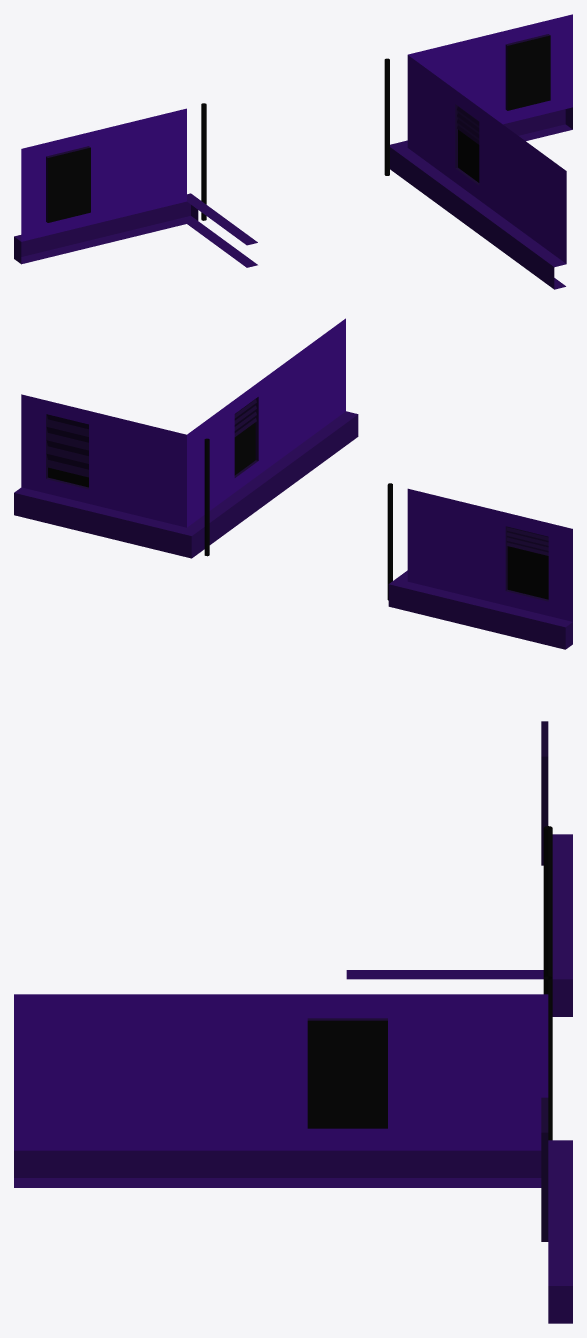
The model's file is RunnablePartHole2.fbx.
The picture shows the model from 3 angles, top to bottom: view 1: azimuth 30°, elevation 25°; view 2: azimuth 150°, elevation 25°; view 3: azimuth 270°, elevation 25°; orthographic projection. The views are drawn at different scales.
Parts seen in each view (by area): view 1: Plane.010; view 2: Plane.010; view 3: Plane.010.
Boxes of the visible parts, x1=… form: Plane.010: x1=14, y1=14, x2=572, y2=289; Plane.010: x1=14, y1=318, x2=572, y2=649; Plane.010: x1=14, y1=721, x2=572, y2=1323.
Bounding box in the file's own units: 10000 × 2000 × 5232.
